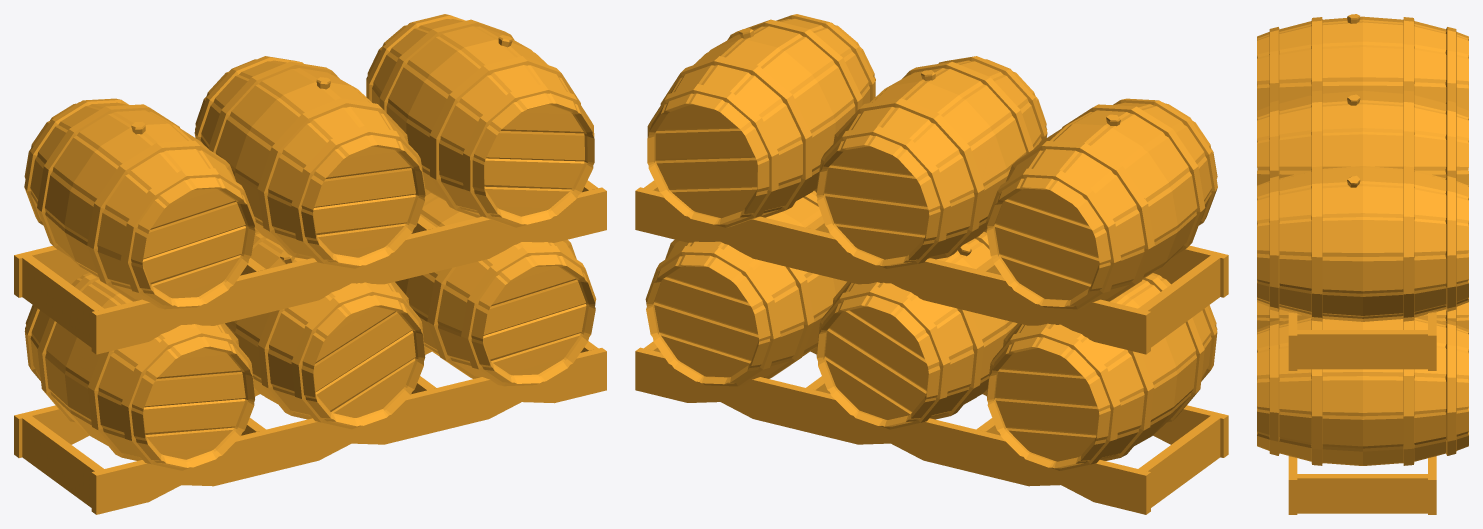
File: SM_Barrel_Stand_3m_Double.fbx
The picture shows the model from 3 angles, left to right: view 1: azimuth 30°, elevation 25°; view 2: azimuth 150°, elevation 25°; view 3: azimuth 270°, elevation 25°; orthographic projection. The views are drawn at different scales.
Parts seen in each view (by area): view 1: barrel-stand-3m-double; view 2: barrel-stand-3m-double; view 3: barrel-stand-3m-double.
Boxes of the visible parts, x1,y1,x2,y2 form: barrel-stand-3m-double: (14, 14, 606, 514); barrel-stand-3m-double: (635, 14, 1228, 514); barrel-stand-3m-double: (1257, 14, 1468, 514).
Bounding box in the file's own units: 3 × 1.94 × 1.2.
